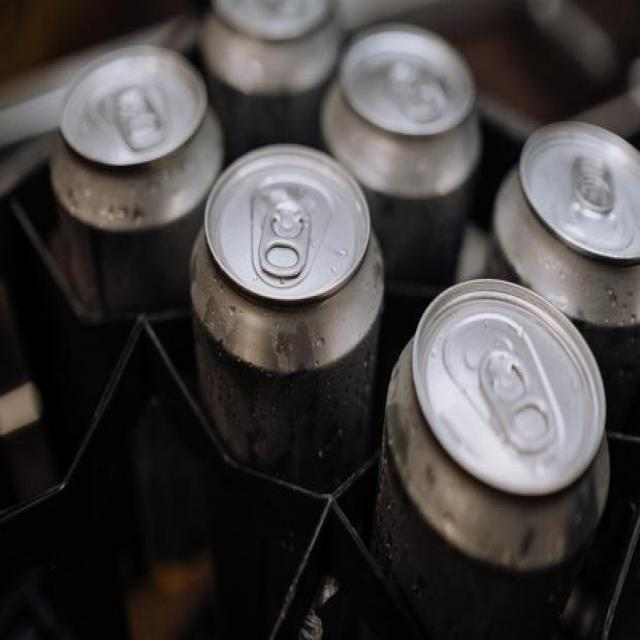Lata: (369, 275, 611, 640), (185, 150, 380, 478), (48, 53, 222, 300), (316, 14, 464, 288), (507, 115, 640, 378)
